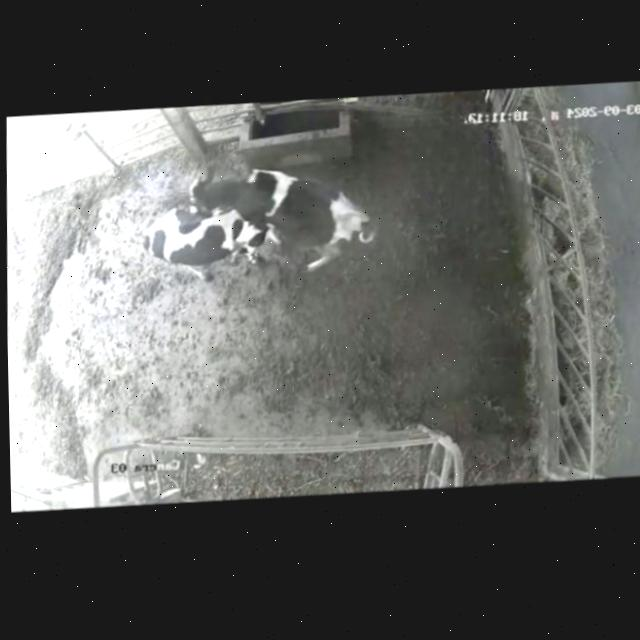ride: (181, 149, 379, 300)
stand: (121, 195, 269, 294)
